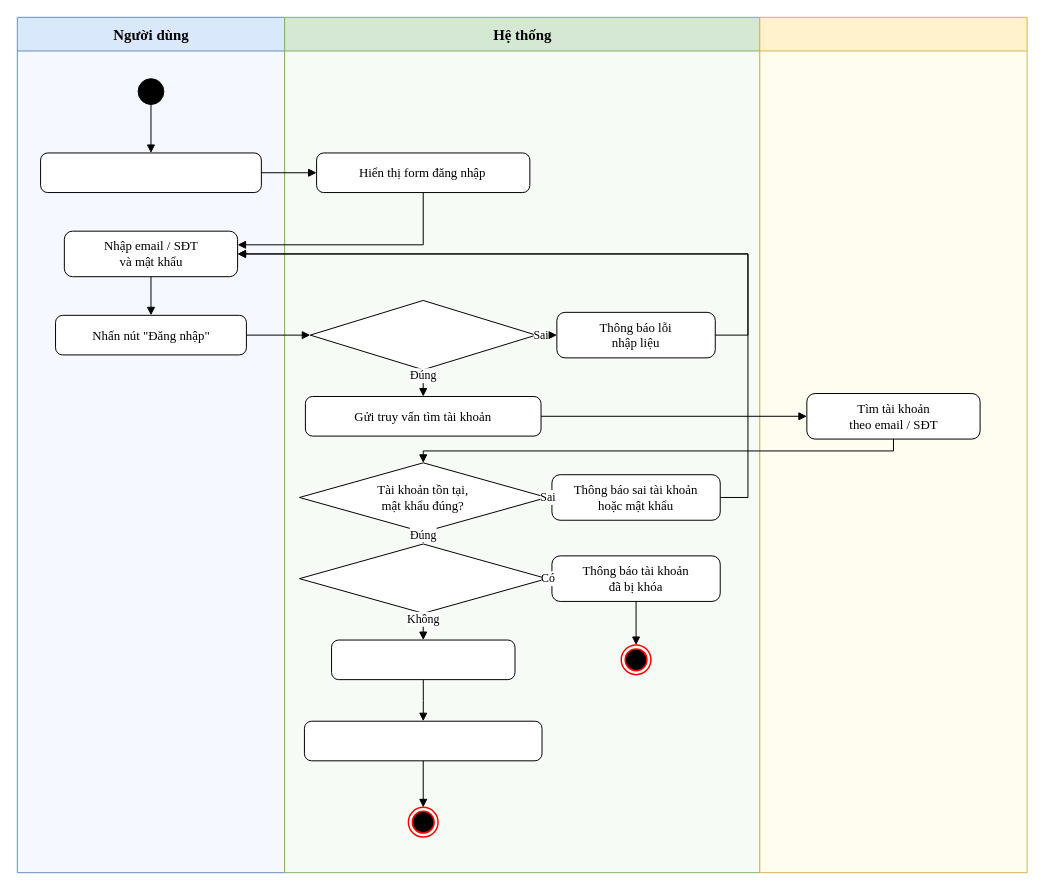
This 1044x890 diagram has some shape labels left out. The box of each missing label's shape, as (x1, y1, x2, y2) in pixels:
Chuyển tới trang theo vai trò: (303, 720, 542, 761)
Chọn chức năng đăng nhập: (40, 152, 261, 193)
Cơ sở dữ liệu: (759, 16, 1027, 873)
Kiểm tra dữ liệu: (309, 299, 536, 370)
Tài khoản bị khóa?: (298, 543, 547, 613)
Tạo phiên đăng nhập: (331, 639, 515, 680)
